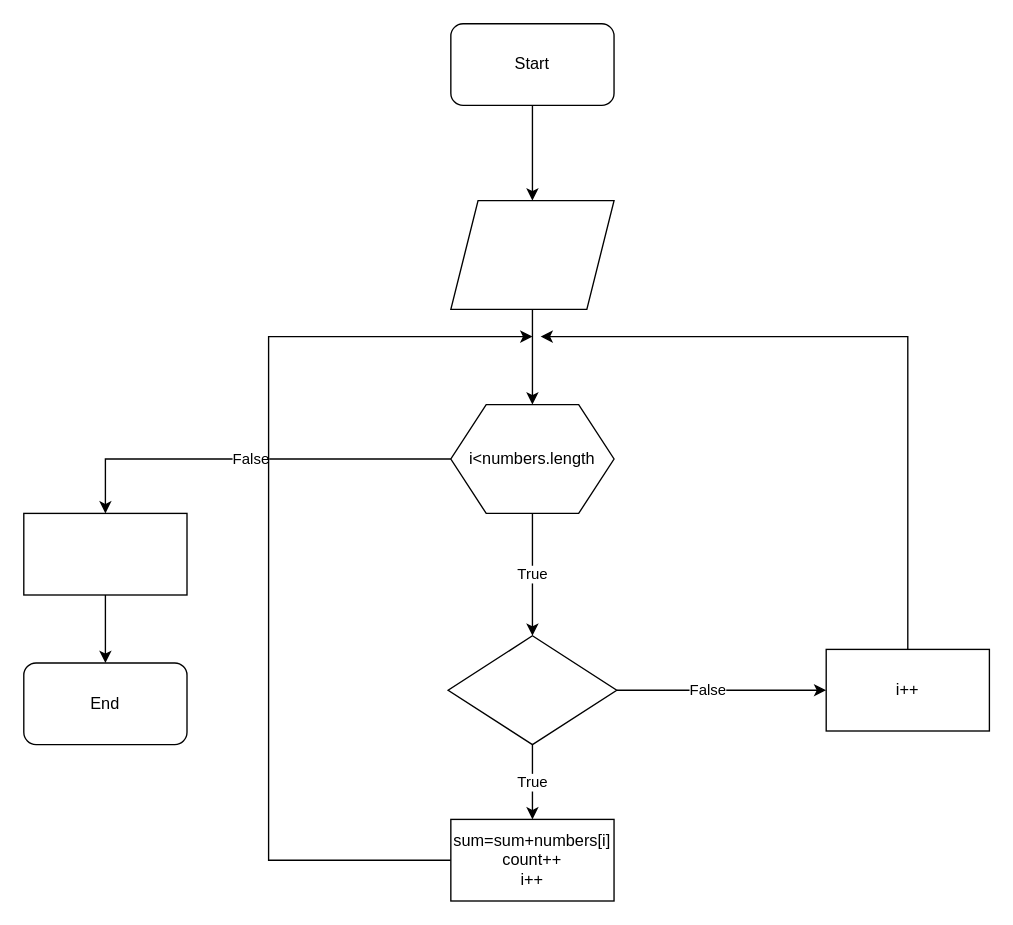
Image size: 1013x925. Some labels were removed from this diagram. The shapes that lost their labels are listed below. From the top down, each one's centre as x and y in pixels, then its label:
pixel 531 254: numbers[] sum=0 count=0 i=0 avarage=0
pixel 104 553: average=sum/count
pixel 532 689: numbers[i]%2!=0
